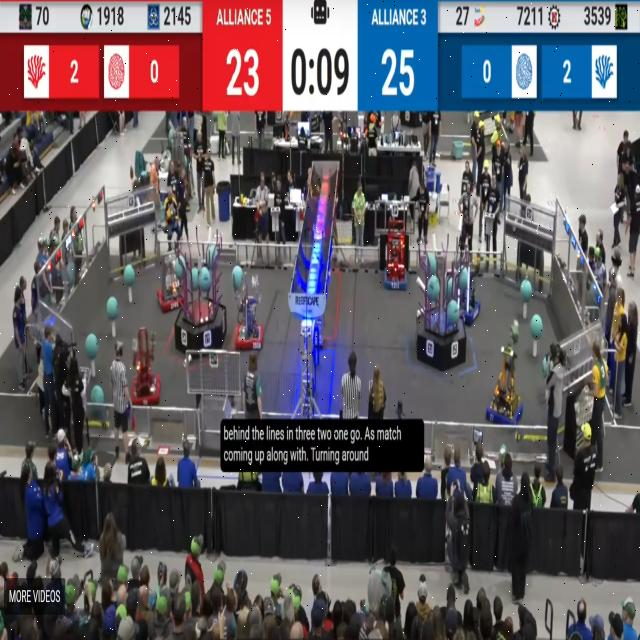Robot-YfA7: (486, 345, 523, 429), (232, 262, 264, 348), (131, 323, 157, 407), (382, 218, 408, 290), (156, 250, 180, 313), (467, 262, 481, 326)
